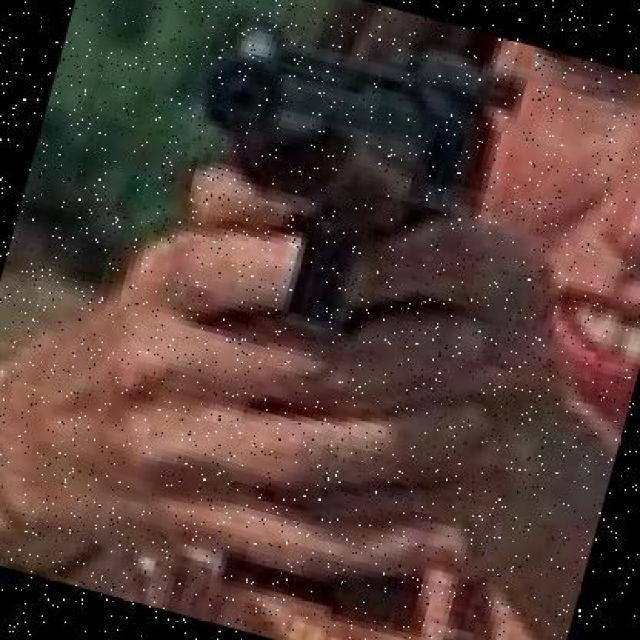rifle: (200, 25, 525, 332)
